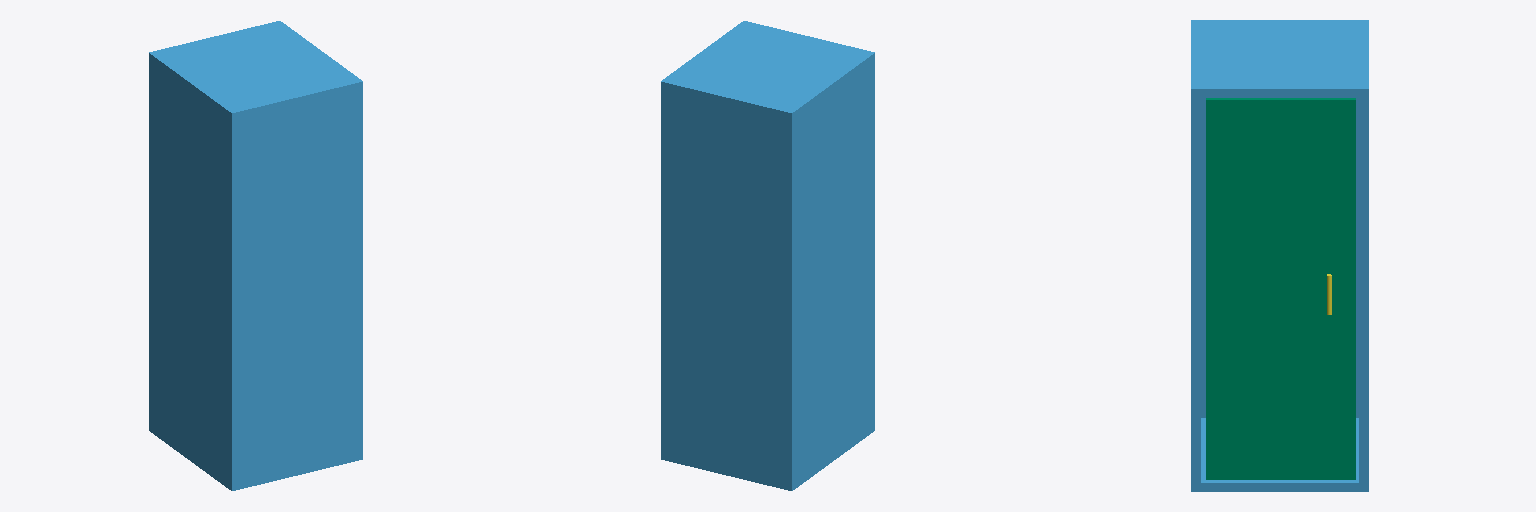
robot.urdf — my_cabinet:
<?xml version="1.0" ?>
<robot name="my_cabinet">
	<link name="world"/>
	<joint name="virtual_joint" type="fixed">
		<parent link="world"/>
		<child link="base_cabinet_link"/>
		<origin xyz="0.0 0.0 0.0" rpy="0.0 0.0 0.0"/>
	</joint>
	<link name="base_cabinet_link">
		<visual>
			<origin xyz="0.0 -0.0025 -0.4031085643492377" rpy="0.0 0.0 0.0"/>
			<geometry>
				<box size="0.3 0.32910798109069006 0.018"/>
			</geometry>
		</visual>
		<collision name="base_cabinet_link_collision_0">
			<origin xyz="0.0 -0.0025 -0.4031085643492377" rpy="0.0 0.0 0.0"/>
			<geometry>
				<box size="0.3 0.32910798109069006 0.018"/>
			</geometry>
		</collision>
		<visual>
			<origin xyz="0.0 0.15305399054534505 0.0" rpy="0.0 0.0 0.0"/>
			<geometry>
				<box size="0.3 0.018 0.8242171286984754"/>
			</geometry>
		</visual>
		<collision name="base_cabinet_link_collision_1">
			<origin xyz="0.0 0.15305399054534505 0.0" rpy="0.0 0.0 0.0"/>
			<geometry>
				<box size="0.3 0.018 0.8242171286984754"/>
			</geometry>
		</collision>
		<visual>
			<origin xyz="0.0 -0.15805399054534505 0.0" rpy="0.0 0.0 0.0"/>
			<geometry>
				<box size="0.3 0.018 0.8242171286984754"/>
			</geometry>
		</visual>
		<collision name="base_cabinet_link_collision_2">
			<origin xyz="0.0 -0.15805399054534505 0.0" rpy="0.0 0.0 0.0"/>
			<geometry>
				<box size="0.3 0.018 0.8242171286984754"/>
			</geometry>
		</collision>
		<visual>
			<origin xyz="0.0 -0.0025 0.4031085643492377" rpy="0.0 0.0 0.0"/>
			<geometry>
				<box size="0.3 0.32910798109069006 0.018"/>
			</geometry>
		</visual>
		<collision name="base_cabinet_link_collision_3">
			<origin xyz="0.0 -0.0025 0.4031085643492377" rpy="0.0 0.0 0.0"/>
			<geometry>
				<box size="0.3 0.32910798109069006 0.018"/>
			</geometry>
		</collision>
		<visual>
			<origin xyz="-0.141 -0.0025 0.0" rpy="0.0 0.0 0.0"/>
			<geometry>
				<box size="0.018 0.32910798109069006 0.8242171286984754"/>
			</geometry>
		</visual>
		<collision name="base_cabinet_link_collision_4">
			<origin xyz="-0.141 -0.0025 0.0" rpy="0.0 0.0 0.0"/>
			<geometry>
				<box size="0.018 0.32910798109069006 0.8242171286984754"/>
			</geometry>
		</collision>
		<inertial>
			<mass value="0.200000"/>
			<inertia ixx="0.013127" ixy="0.0" ixz="0.0" iyy="0.012822" iyz="0.0" izz="0.003305"/>
		</inertial>
	</link>
	<link name="door_link">
		<visual>
			<origin xyz="0.0 -0.13905399054534504 0.0"/>
			<geometry>
				<box size="0.018 0.27810798109069007 0.7782171286984754"/>
			</geometry>
		</visual>
		<collision name="door_link_collision">
			<origin xyz="0.0 -0.13905399054534504 0.0"/>
			<geometry>
				<box size="0.018 0.27810798109069007 0.7782171286984754"/>
			</geometry>
		</collision>
		<inertial>
			<mass value="0.200000"/>
			<inertia ixx="0.011383" ixy="0.0" ixz="0.0" iyy="0.010099" iyz="0.0" izz="0.001294"/>
		</inertial>
	</link>
	<joint name="door_joint" type="revolute">
		<origin xyz="0.141 -0.13905399054534504 0.0" rpy="0.000000 -0.000000 3.141593"/>
		<axis xyz="0 0 1"/>
		<parent link="base_cabinet_link"/>
		<child link="door_link"/>
		<limit effort="50" lower="-1.658062789394613" upper="0" velocity="10"/>
		<dynamics friction="3.5" damping="3.5"/>
	</joint>
	<link name="handle_link">
		<visual>
			<origin xyz="0.0 0.0 0.0" rpy="0.0 0.0 0.0"/>
			<geometry>
				<cylinder length="0.08" radius="0.005"/>
			</geometry>
		</visual>
		<collision name="handle_link_collision_0">
			<origin xyz="0.0 0.0 0.0" rpy="0.0 0.0 0.0"/>
			<geometry>
				<cylinder length="0.08" radius="0.005"/>
			</geometry>
		</collision>
		<visual>
			<origin xyz="-0.01 0.0 0.02" rpy="0.0 1.5707963267948966 0.0"/>
			<geometry>
				<cylinder length="0.02" radius="0.003"/>
			</geometry>
		</visual>
		<collision name="handle_link_collision_1">
			<origin xyz="-0.01 0.0 0.02" rpy="0.0 1.5707963267948966 0.0"/>
			<geometry>
				<cylinder length="0.01" radius="0.003"/>
			</geometry>
		</collision>
		<visual>
			<origin xyz="-0.01 0.0 -0.02" rpy="0.0 1.5707963267948966 0.0"/>
			<geometry>
				<cylinder length="0.02" radius="0.003"/>
			</geometry>
		</visual>
		<collision name="handle_link_collision_2">
			<origin xyz="-0.01 0.0 -0.02" rpy="0.0 1.5707963267948966 0.0"/>
			<geometry>
				<cylinder length="0.02" radius="0.003"/>
			</geometry>
		</collision>
		<inertial>
			<mass value="0.050000"/>
			<inertia ixx="0.000027" ixy="0.0" ixz="0.0" iyy="0.000029" iyz="0.0" izz="0.000003"/>
		</inertial>
	</link>
	<joint name="handle_joint" type="fixed">
		<origin xyz="-0.028999999999999998 -0.22810798109069008 0.0" rpy="0.000000 -0.000000 3.141593"/>
		<parent link="door_link"/>
		<child link="handle_link"/>
	</joint>
	<gazebo reference="base_cabinet_link">
		<sensor name="main_sensor" type="contact">
			<selfCollide>true</selfCollide>
			<alwaysOn>true</alwaysOn>
			<updateRate>5.0</updateRate>
			<material>Gazebo/Red</material>
			<contact>
				<collision>base_cabinet_link_collision_0_collision</collision>
				<collision>base_cabinet_link_collision_1_collision</collision>
				<collision>base_cabinet_link_collision_2_collision</collision>
				<collision>base_cabinet_link_collision_3_collision</collision>
				<collision>base_cabinet_link_collision_4_collision</collision>
			</contact>
			<plugin name="gazebo_ros_bumper_controller" filename="libgazebo_ros_bumper.so">
				<bumperTopicName>/contact</bumperTopicName>
				<frameName>world</frameName>
			</plugin>
		</sensor>
	</gazebo>
	<gazebo reference="door_link">
		<sensor name="main_sensor" type="contact">
			<selfCollide>true</selfCollide>
			<alwaysOn>true</alwaysOn>
			<updateRate>5.0</updateRate>
			<material>Gazebo/Red</material>
			<contact>
				<collision>door_link_collision_collision</collision>
			</contact>
			<plugin name="gazebo_ros_bumper_controller" filename="libgazebo_ros_bumper.so">
				<bumperTopicName>/contact_door</bumperTopicName>
				<frameName>contact_door</frameName>
			</plugin>
		</sensor>
	</gazebo>
	<gazebo reference="door_link">
		<mu>3.0</mu>
		<mu2>3.0</mu2>
		<kp>10000000</kp>
		<kd>100</kd>
	</gazebo>
</robot>

--- Facts derived from the render (not from the file) ---
3 views of the same robot in one strip: view 1: azimuth 30°, elevation 25°; view 2: azimuth 150°, elevation 25°; view 3: azimuth 270°, elevation 25° (orthographic).
Robot: my_cabinet — 4 links, 3 joints (1 revolute, 2 fixed); root link world; default pose: all joints at 0.
Links seen in each view (by area): view 1: base_cabinet_link; view 2: base_cabinet_link; view 3: door_link, base_cabinet_link.
Link boxes in pixels (x1,y1,x2,y2): base_cabinet_link: (149, 21, 362, 490); base_cabinet_link: (661, 21, 874, 490); door_link: (1206, 98, 1355, 479); base_cabinet_link: (1191, 20, 1368, 491).
Bounding box of the posed robot: 0.325 × 0.3291 × 0.8242 m (x, y, z).
Geometry: primitives only (box / cylinder / sphere), no mesh files.
